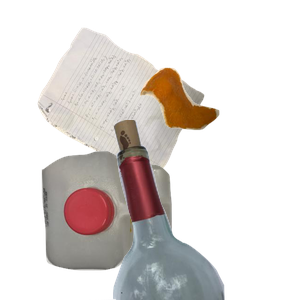glass: (89, 120, 300, 300)
paper: (35, 25, 232, 204)
plastic: (39, 149, 203, 300)
trash: (137, 65, 300, 188)
